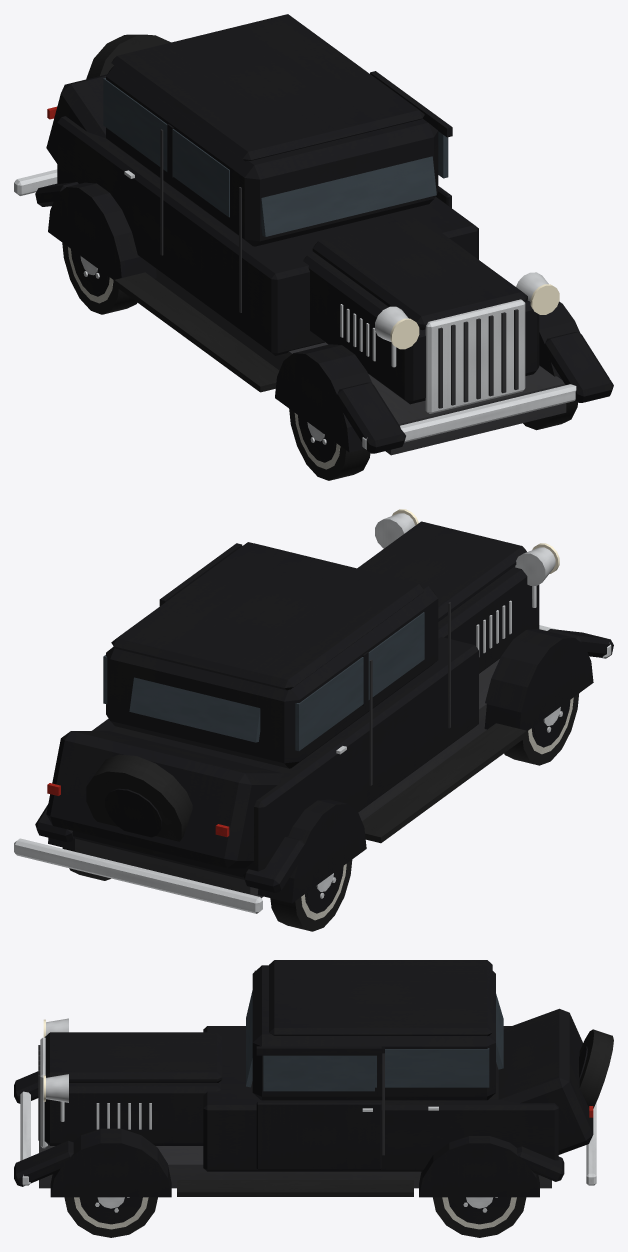
The model's file is OB_Auto_SD.fbx.
3 views of the same model, one above another, from view 1: azimuth 30°, elevation 25°; view 2: azimuth 150°, elevation 25°; view 3: azimuth 270°, elevation 25° (orthographic). The views are drawn at different scales.
Parts seen in each view (by area): view 1: Karoseria, Kolo_PP, Kolo_PT, Drzwi_Kierowcy, Reflektory; view 2: Karoseria, Kolo_PT, Kolo_PP, Drzwi_Kierowcy; view 3: Karoseria, Drzwi_Kierowcy, Kolo_LT, Kolo_LP.
Boxes of the visible parts, box(x1,y1,x2,y2) form: Karoseria: box(14, 14, 613, 455); Kolo_PP: box(289, 408, 370, 480); Kolo_PT: box(62, 243, 137, 314); Drzwi_Kierowcy: box(370, 71, 452, 207); Reflektory: box(390, 284, 559, 349); Karoseria: box(14, 513, 613, 913); Kolo_PT: box(270, 859, 352, 931); Kolo_PP: box(504, 693, 579, 765); Drzwi_Kierowcy: box(159, 543, 242, 606); Karoseria: box(14, 960, 613, 1197); Drzwi_Kierowcy: box(256, 1046, 381, 1169); Kolo_LT: box(433, 1197, 526, 1237); Kolo_LP: box(64, 1197, 157, 1237).
Bounding box in the file's own units: 1.9 × 1.66 × 4.56.
